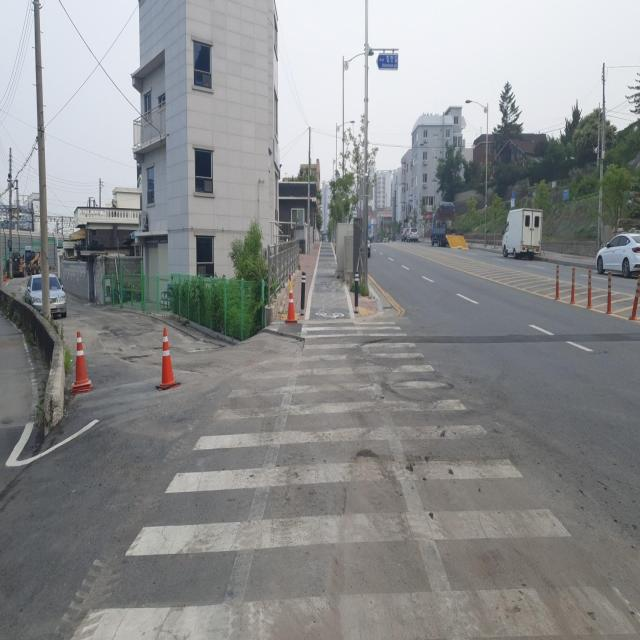횡단보도: (67, 319, 639, 640)
